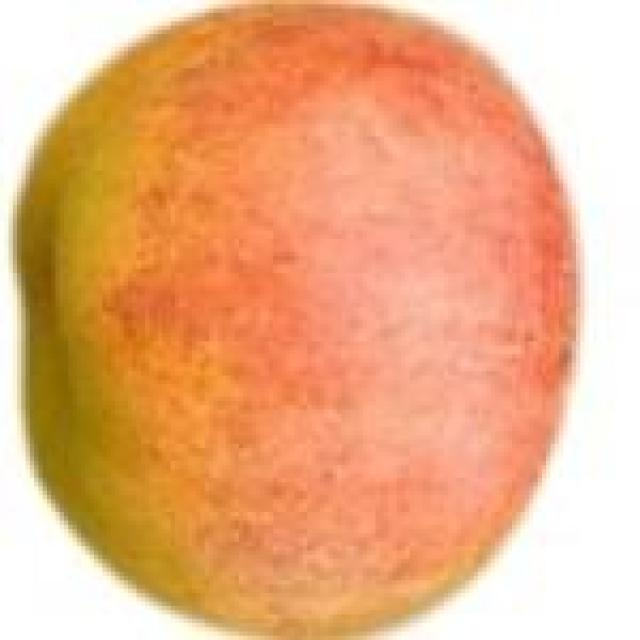Rotten Apple: (19, 0, 587, 640)
